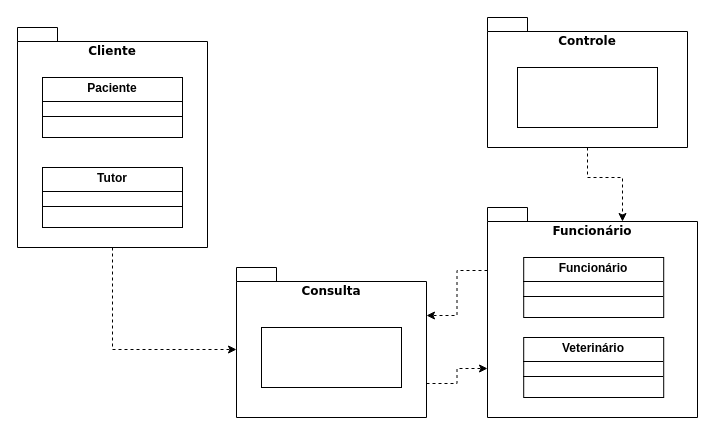
This 715x435 diagram has some shape labels left out. The centre of each missing label's shape, as x and y in pixels:
"Administrador" belongs at [587,97].
"Atendimento" belongs at [331,357].
